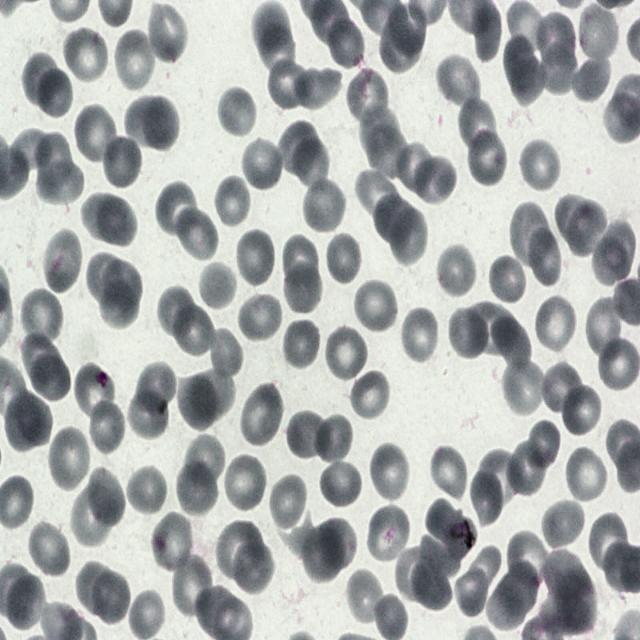red blood cell: (488, 557, 540, 629), (2, 388, 54, 453), (502, 32, 548, 103), (126, 93, 180, 152), (239, 381, 284, 448), (344, 66, 390, 131), (251, 4, 293, 75), (144, 2, 190, 66), (48, 425, 92, 491), (366, 502, 412, 565), (82, 463, 124, 532), (41, 228, 84, 295), (62, 25, 110, 85), (151, 510, 195, 575), (168, 300, 217, 358), (113, 30, 157, 94), (222, 452, 268, 513), (154, 179, 200, 240), (506, 529, 552, 590), (467, 302, 517, 358), (217, 519, 264, 578), (588, 510, 630, 576), (171, 553, 212, 620), (172, 206, 220, 263), (534, 293, 578, 355), (74, 102, 118, 164), (369, 441, 412, 504), (503, 354, 546, 417), (352, 278, 400, 334), (134, 359, 178, 420), (301, 176, 347, 234), (26, 520, 71, 579), (564, 445, 609, 504), (284, 407, 333, 461), (236, 289, 284, 344), (510, 200, 550, 266), (34, 154, 82, 209), (466, 126, 508, 188), (324, 324, 368, 383), (289, 66, 344, 113), (505, 440, 548, 500), (518, 136, 562, 194), (446, 304, 490, 362), (322, 11, 366, 69), (380, 17, 424, 75), (70, 484, 111, 546), (585, 296, 624, 361), (234, 228, 276, 288), (240, 135, 284, 192), (466, 464, 505, 528), (560, 380, 603, 438), (231, 541, 276, 595), (191, 366, 236, 420), (435, 242, 478, 298), (101, 133, 143, 190), (541, 497, 586, 550), (428, 444, 469, 502), (565, 200, 606, 258), (568, 50, 612, 104), (174, 376, 218, 430), (478, 446, 522, 500), (400, 306, 440, 365), (351, 169, 400, 217), (121, 463, 167, 514), (319, 457, 363, 510), (100, 257, 144, 310), (84, 191, 127, 245), (21, 288, 64, 342), (277, 119, 320, 173), (268, 473, 308, 531), (458, 95, 497, 154), (412, 156, 458, 206), (367, 127, 411, 179), (6, 574, 46, 631), (197, 585, 240, 638), (216, 86, 258, 140), (347, 362, 389, 416), (303, 524, 342, 582), (311, 413, 355, 464), (536, 12, 577, 66), (507, 1, 548, 55), (88, 398, 126, 456), (540, 360, 584, 410), (95, 194, 136, 247), (488, 252, 528, 306), (281, 318, 321, 372), (282, 234, 322, 288), (358, 104, 401, 154), (92, 570, 131, 625), (197, 258, 238, 310), (375, 192, 415, 245), (8, 127, 54, 173), (436, 58, 480, 106), (18, 335, 62, 383), (214, 175, 253, 229), (177, 460, 216, 514), (574, 9, 616, 59), (325, 231, 363, 286), (128, 384, 164, 442), (492, 315, 532, 367), (538, 44, 578, 96), (208, 324, 242, 385), (23, 53, 60, 109), (268, 61, 312, 108), (185, 436, 226, 486), (284, 261, 324, 312), (291, 139, 331, 190), (391, 208, 427, 264), (591, 235, 629, 288), (529, 227, 562, 288), (412, 560, 453, 609), (32, 354, 72, 404), (599, 338, 639, 388), (396, 544, 432, 599), (76, 561, 114, 613), (320, 518, 358, 569), (86, 254, 124, 305), (388, 6, 426, 57), (129, 590, 168, 639), (524, 422, 562, 472), (156, 286, 194, 336), (98, 284, 141, 327), (36, 131, 74, 179), (419, 535, 460, 579), (398, 139, 434, 189), (348, 572, 383, 623), (452, 567, 488, 615), (38, 70, 72, 120), (606, 216, 636, 272), (554, 194, 588, 241)
ring: (73, 363, 114, 420)
trophozoite: (441, 514, 477, 560)
